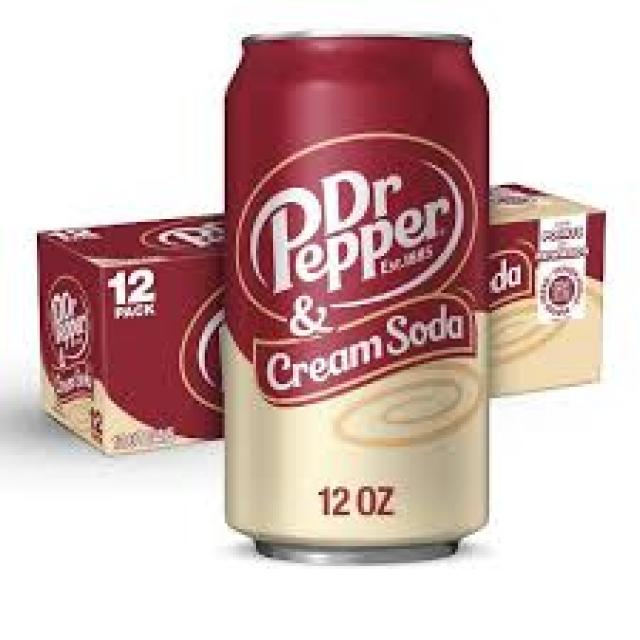Cans: (210, 20, 507, 577)
